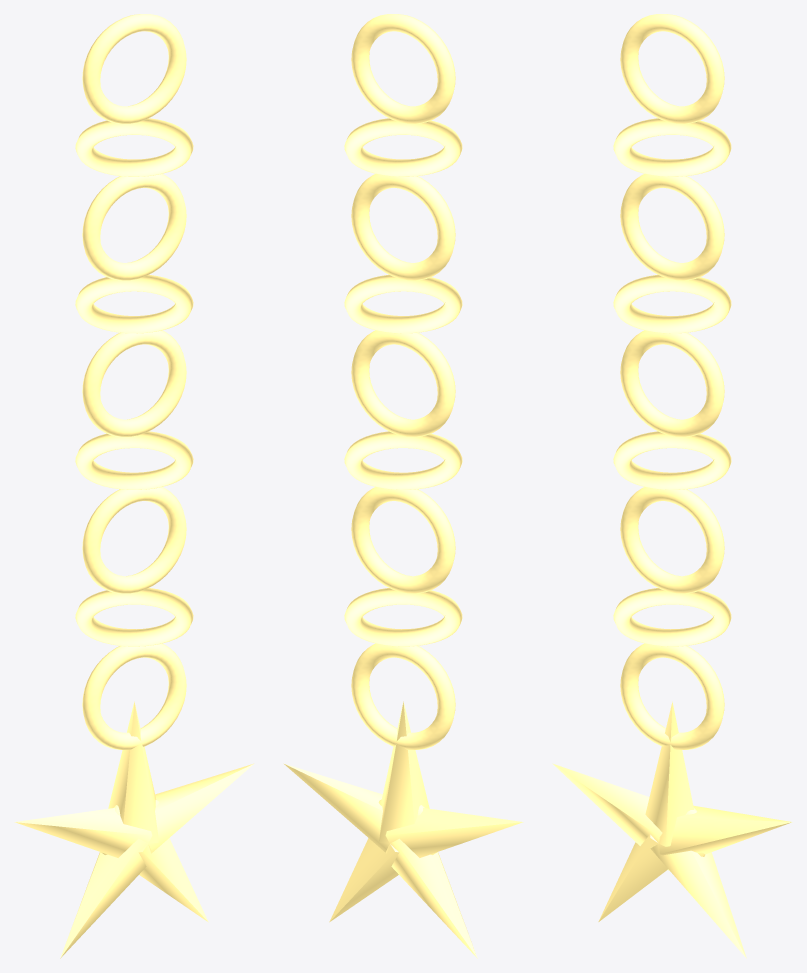
Rendered from st_dream_chain.glb.
The picture shows the model from 3 angles, left to right: view 1: azimuth 30°, elevation 25°; view 2: azimuth 150°, elevation 25°; view 3: azimuth 330°, elevation 25°; orthographic projection.
Parts seen in each view (by area): view 1: Hanging_Star_Chain; view 2: Hanging_Star_Chain; view 3: Hanging_Star_Chain.
Boxes of the visible parts, left/top/right/bottom form: Hanging_Star_Chain: left=14, top=14, right=254, bottom=958; Hanging_Star_Chain: left=283, top=14, right=523, bottom=958; Hanging_Star_Chain: left=552, top=14, right=792, bottom=958.
Bounding box in the file's own units: 0.4185 × 1.54 × 0.178.
